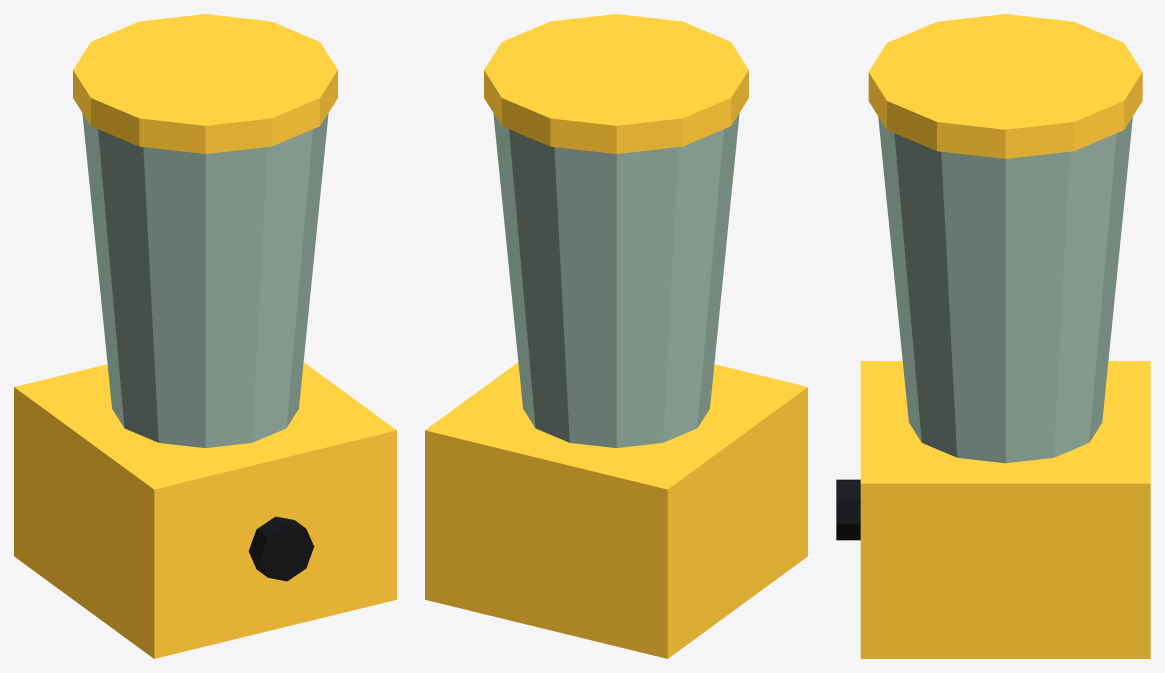
Rendered from gym_gold_blender.glb.
3 views of the same model, side by side, from view 1: azimuth 30°, elevation 25°; view 2: azimuth 150°, elevation 25°; view 3: azimuth 270°, elevation 25° (orthographic). The views are drawn at different scales.
Parts seen in each view (by area): view 1: base_blender_gold, jug_jar_glass, lid_blender_gold, knob_black; view 2: base_blender_gold, jug_jar_glass, lid_blender_gold; view 3: base_blender_gold, jug_jar_glass, lid_blender_gold, knob_black.
Boxes of the visible parts, bbox=[...] form: base_blender_gold: bbox=[14, 362, 396, 658]; jug_jar_glass: bbox=[82, 113, 328, 447]; lid_blender_gold: bbox=[73, 14, 337, 153]; knob_black: bbox=[248, 516, 314, 581]; base_blender_gold: bbox=[425, 362, 807, 658]; jug_jar_glass: bbox=[493, 113, 739, 447]; lid_blender_gold: bbox=[484, 14, 748, 153]; base_blender_gold: bbox=[860, 361, 1150, 658]; jug_jar_glass: bbox=[878, 116, 1132, 463]; lid_blender_gold: bbox=[868, 14, 1142, 158]; knob_black: bbox=[836, 479, 860, 540].
Bounding box in the file's own units: 0.18 × 0.36 × 0.195.
